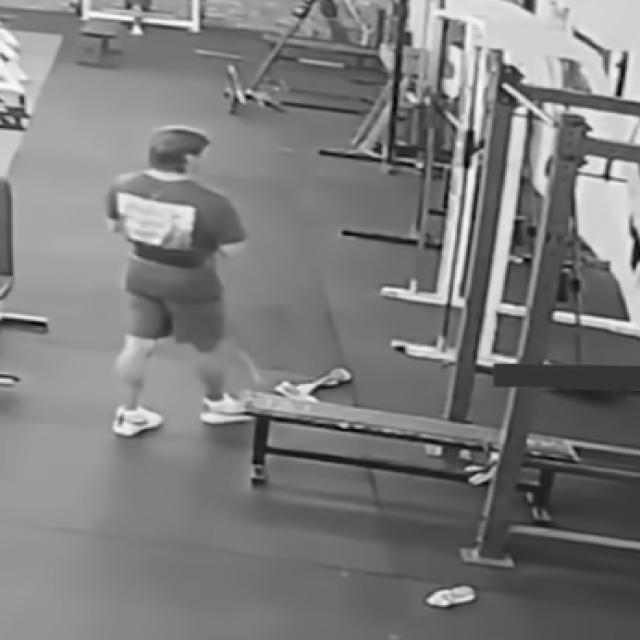Invader: (100, 123, 255, 437)
